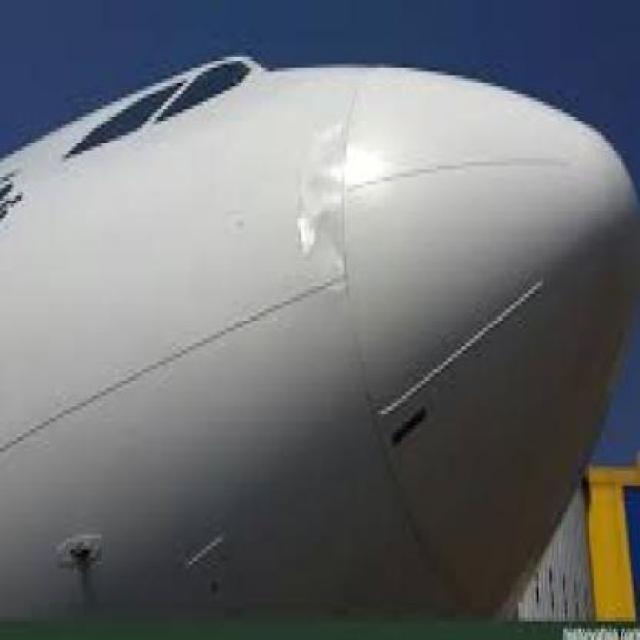dent: (297, 126, 348, 253)
